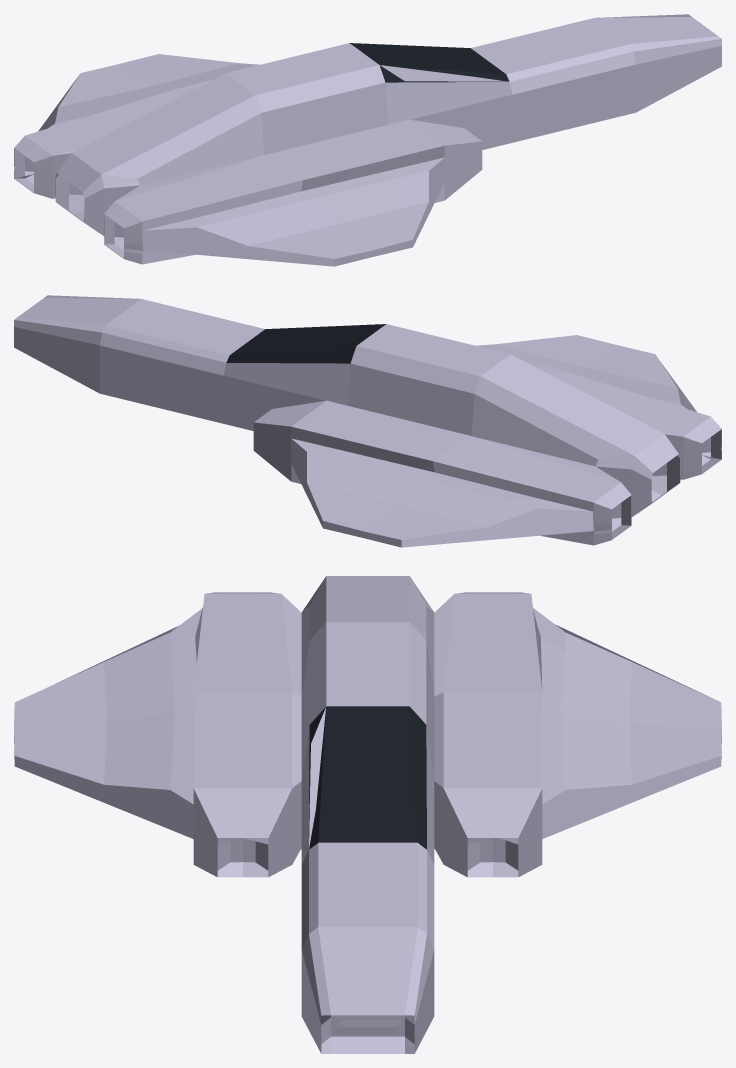
File: navicellaSpazialeLowPoly.fbx
3 views of the same model, one above another, from view 1: azimuth 30°, elevation 25°; view 2: azimuth 150°, elevation 25°; view 3: azimuth 270°, elevation 25° (orthographic). The views are drawn at different scales.
Parts seen in each view (by area): view 1: Corpo Nave, Ali, Coperture Propulsori, Vetro; view 2: Corpo Nave, Ali, Coperture Propulsori, Vetro; view 3: Corpo Nave, Ali, Coperture Propulsori, Vetro.
Part boxes in pixels (x1=…): Corpo Nave: x1=14, y1=18, x2=636, y2=264; Ali: x1=25, y1=54, x2=444, y2=266; Coperture Propulsori: x1=410, y1=14, x2=721, y2=200; Vetro: x1=350, y1=43, x2=509, y2=82; Corpo Nave: x1=99, y1=299, x2=721, y2=545; Ali: x1=291, y1=335, x2=710, y2=547; Coperture Propulsori: x1=14, y1=295, x2=325, y2=481; Vetro: x1=226, y1=324, x2=385, y2=363; Corpo Nave: x1=193, y1=576, x2=542, y2=1036; Ali: x1=14, y1=608, x2=721, y2=838; Coperture Propulsori: x1=193, y1=788, x2=542, y2=1053; Vetro: x1=309, y1=706, x2=426, y2=849.
Size of the model in its own units: 2074 by 328 by 1436.
